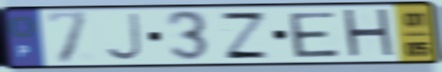3: (167, 8, 210, 64)
7: (45, 10, 91, 66)
E: (285, 10, 342, 59)
H: (340, 7, 399, 61)
J: (102, 11, 145, 62)
Z: (217, 10, 273, 61)
